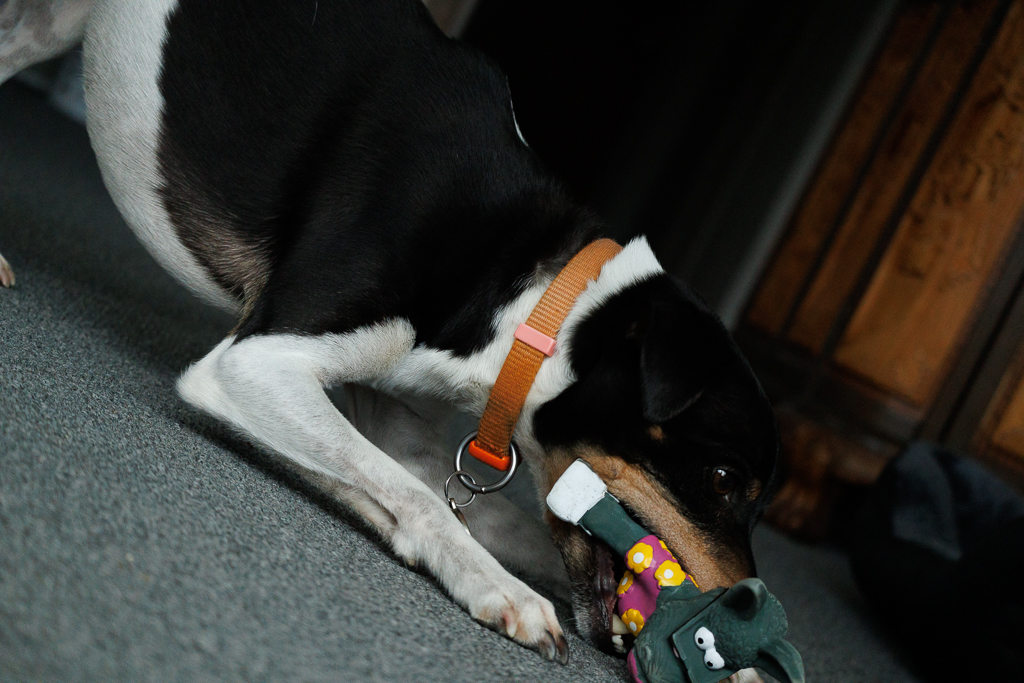Dog: (0, 0, 801, 672)
Humanoid: (535, 442, 813, 683)
